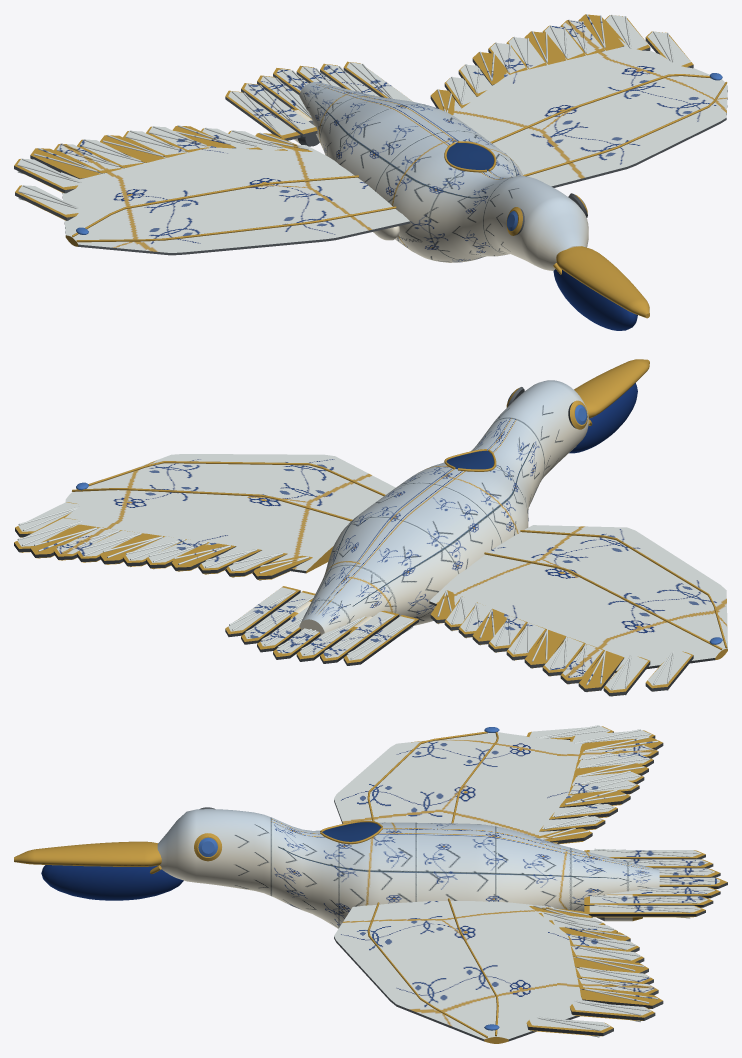
The picture shows the model from 3 angles, top to bottom: view 1: azimuth 30°, elevation 25°; view 2: azimuth 150°, elevation 25°; view 3: azimuth 270°, elevation 25°; orthographic projection. The views are drawn at different scales.
Parts seen in each view (by area): view 1: pelican_hull; view 2: pelican_hull; view 3: pelican_hull.
Part boxes in pixels (x1,y1,x2,y2): pelican_hull: [14, 14, 727, 330]; pelican_hull: [14, 359, 727, 696]; pelican_hull: [14, 725, 727, 1043].
Size of the model in its own units: 86 by 16.31 by 84.67.
Materials: 1 (1 with a texture image).
